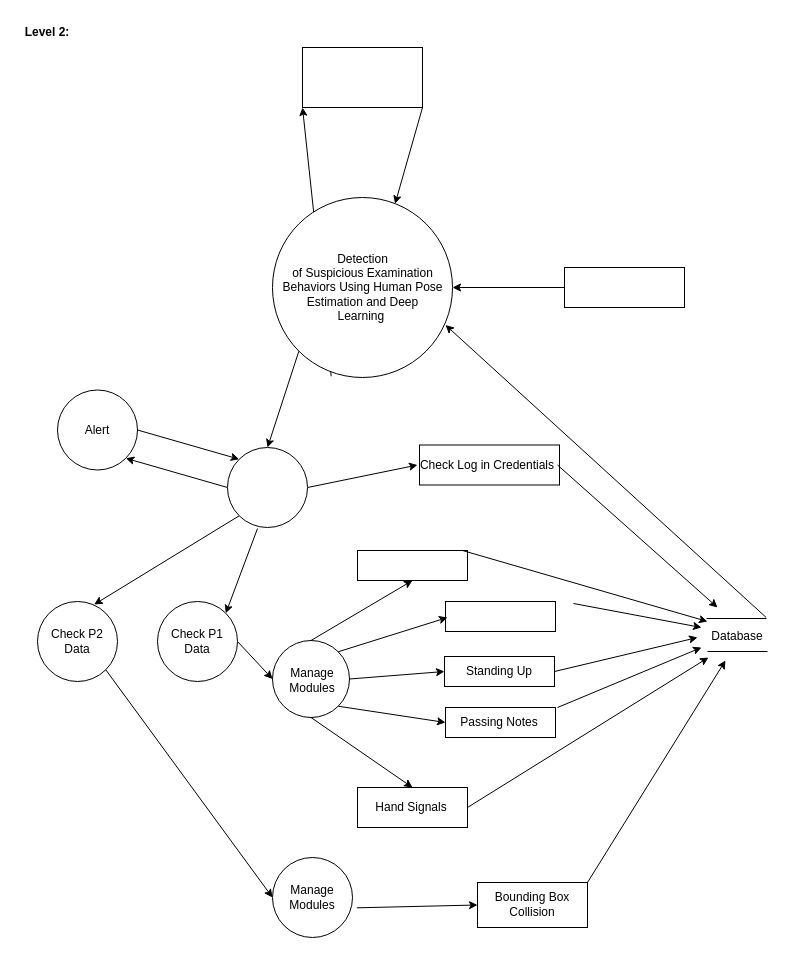
The diagram is 792 pixels wide and 955 high, and some of its shapes have lost their labels. Here are the shapes that lost their labels. From the top down, the centre of each, then its label:
At pixel 362 77: "TEACHER".
At pixel 624 287: "STUDENT".
At pixel 267 487: "Live Camera Data".
At pixel 412 565: "Side Glancing".
At pixel 500 616: "Head Down".
